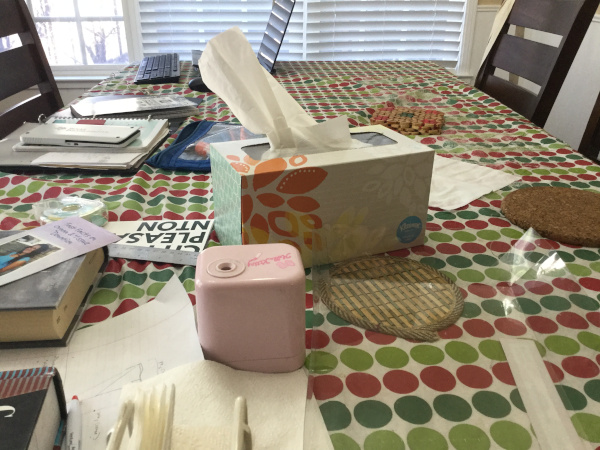box: (195, 32, 450, 261)
